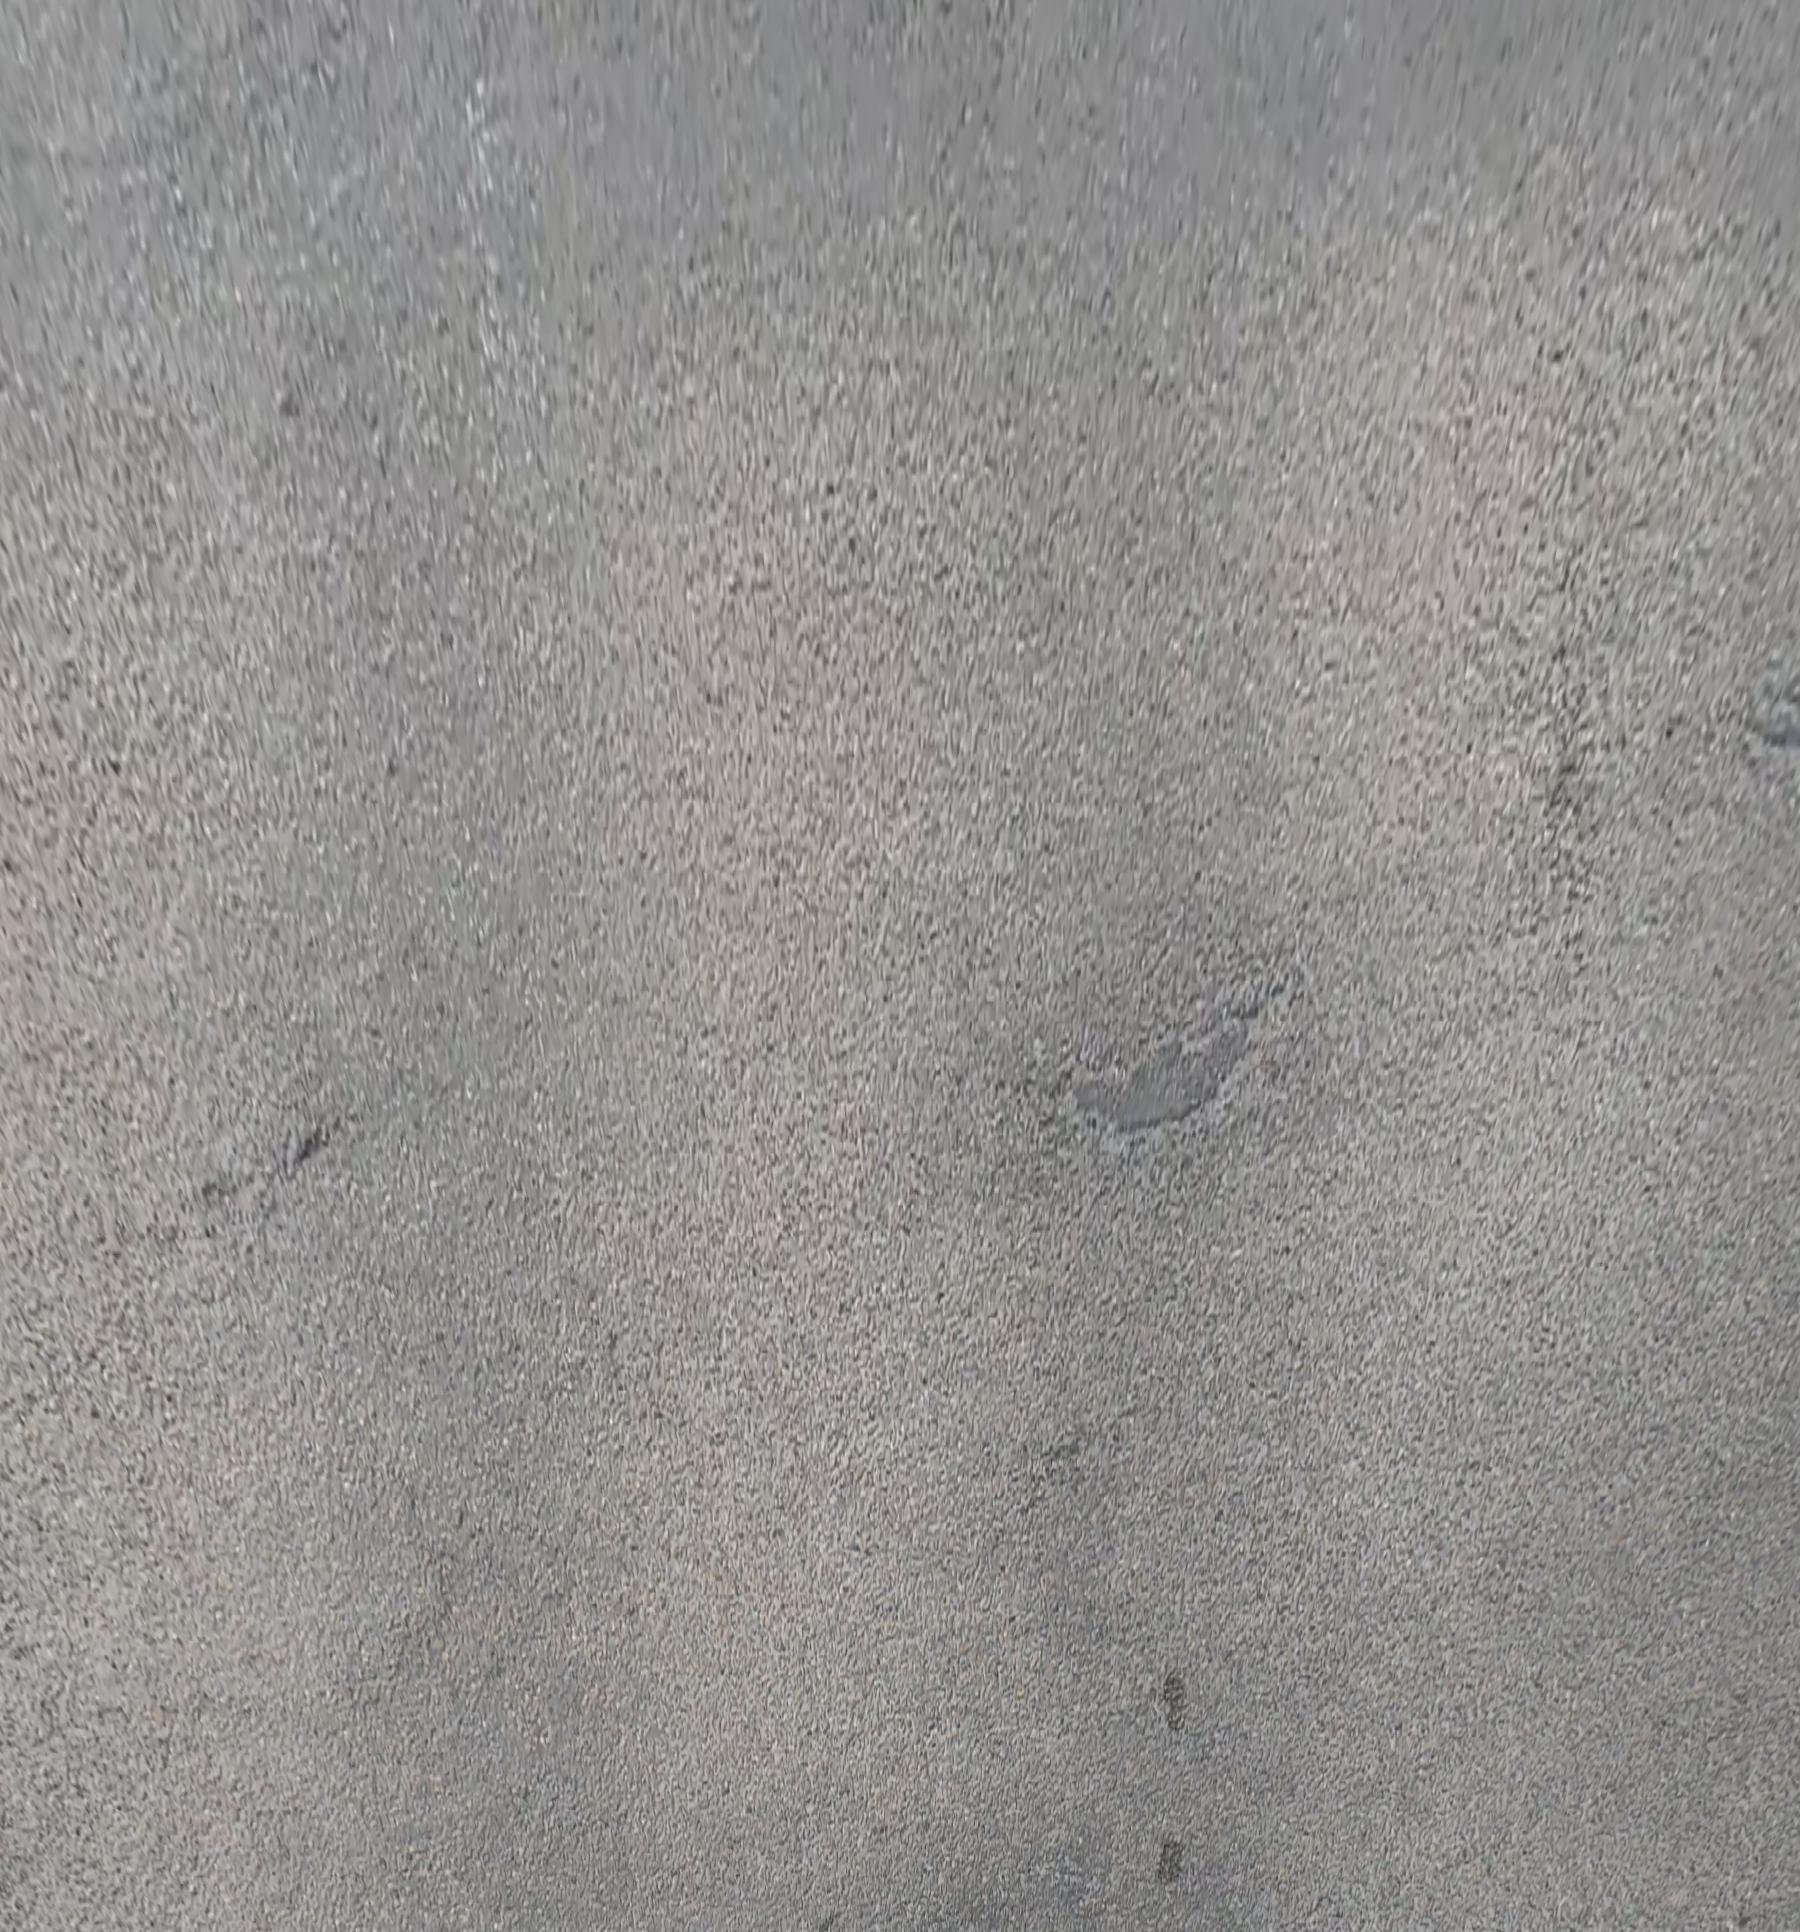pothole_patch_poor: (1079, 1017, 1254, 1133)
